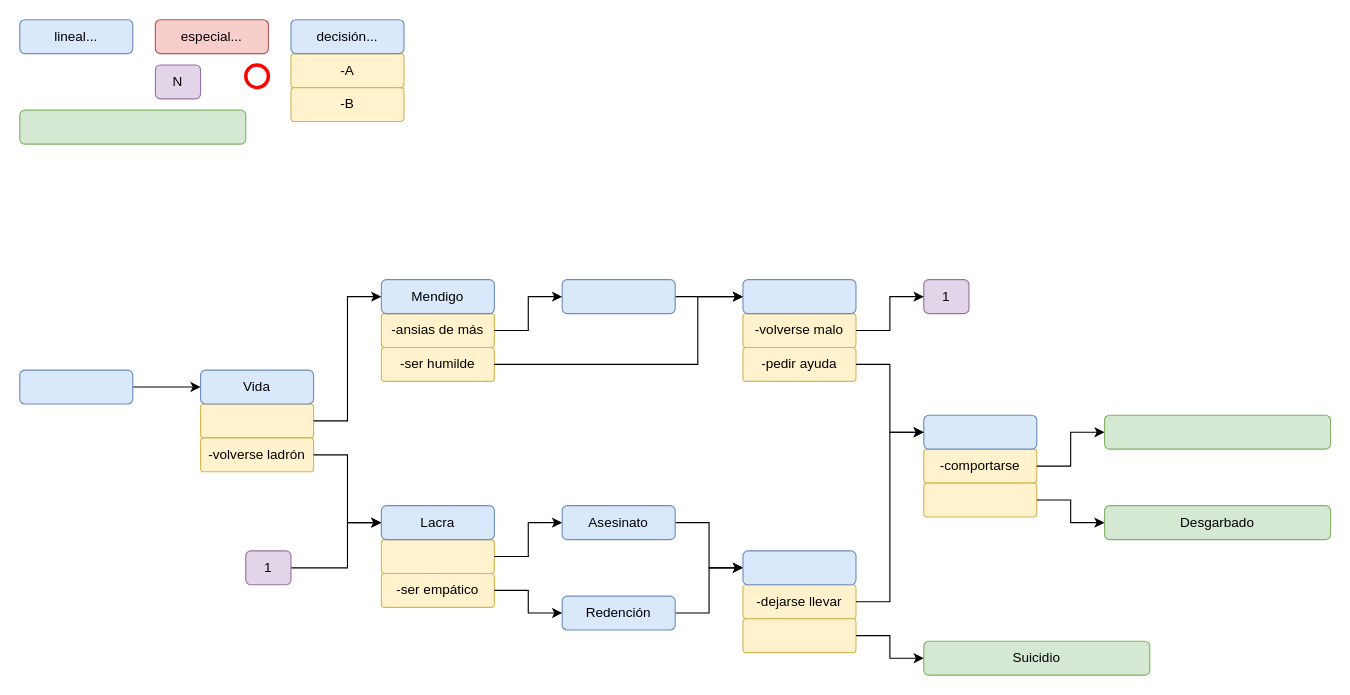
Some shapes in this 1350 by 695 pixel diagram are drawn without their labels. The centre of each missing label's shape, as x and y in pixels:
-dar lástima: the point at 256,420
-no puede más: the point at 799,635
-ser un capullo: the point at 980,499
-ser violento: the point at 437,555
Adoptado: the point at 1217,431
Confianza: the point at 799,296
final...: the point at 132,126
Hospital: the point at 799,567
Huesos: the point at 76,386
Oportunidad: the point at 618,296
Orfanato: the point at 980,431
